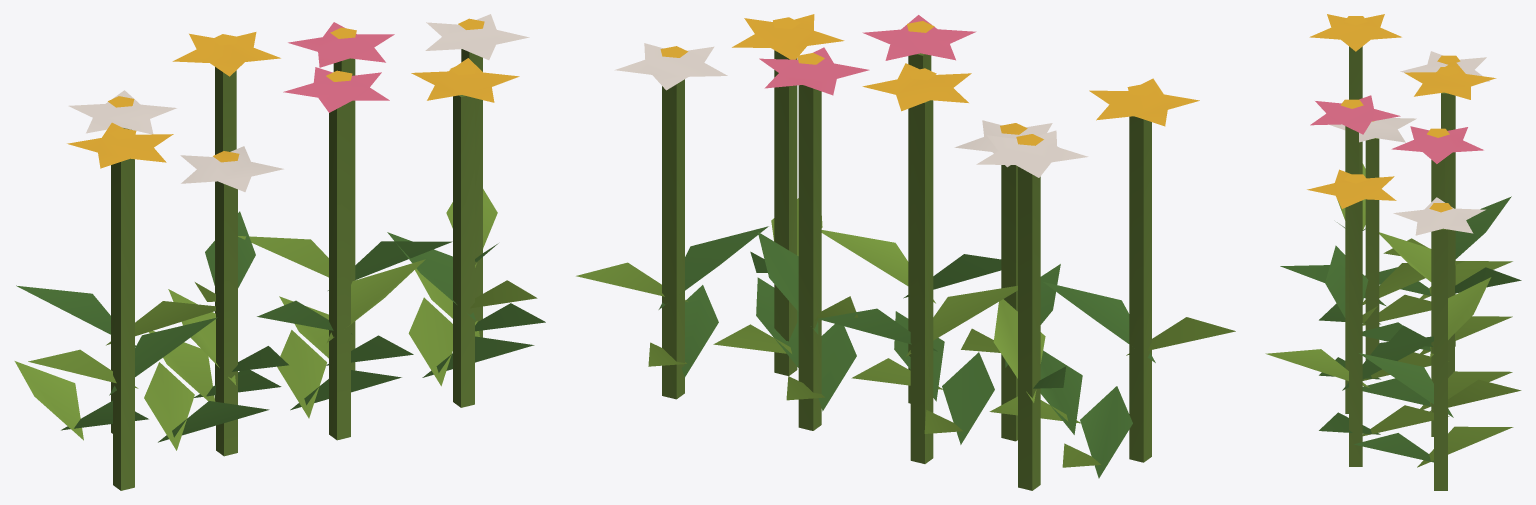
File: prop.flower.lod1.glb
3 renders of one model, left to right at view 1: azimuth 30°, elevation 25°; view 2: azimuth 150°, elevation 25°; view 3: azimuth 270°, elevation 25°, orthographic. The views are drawn at different scales.
Visible parts, largest first — view 1: body; view 2: body; view 3: body.
Part boxes in pixels (x1,y1,x2,y2): body: [14, 14, 545, 490]; body: [576, 14, 1235, 490]; body: [1265, 14, 1521, 490].
Size of the model in its own units: 0.5431 by 0.3553 by 0.262.
